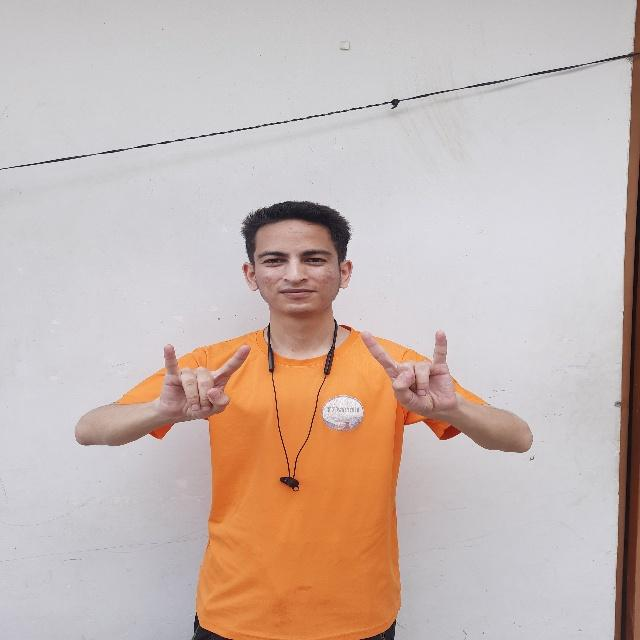Corna: (354, 319, 467, 430), (152, 329, 258, 437)
